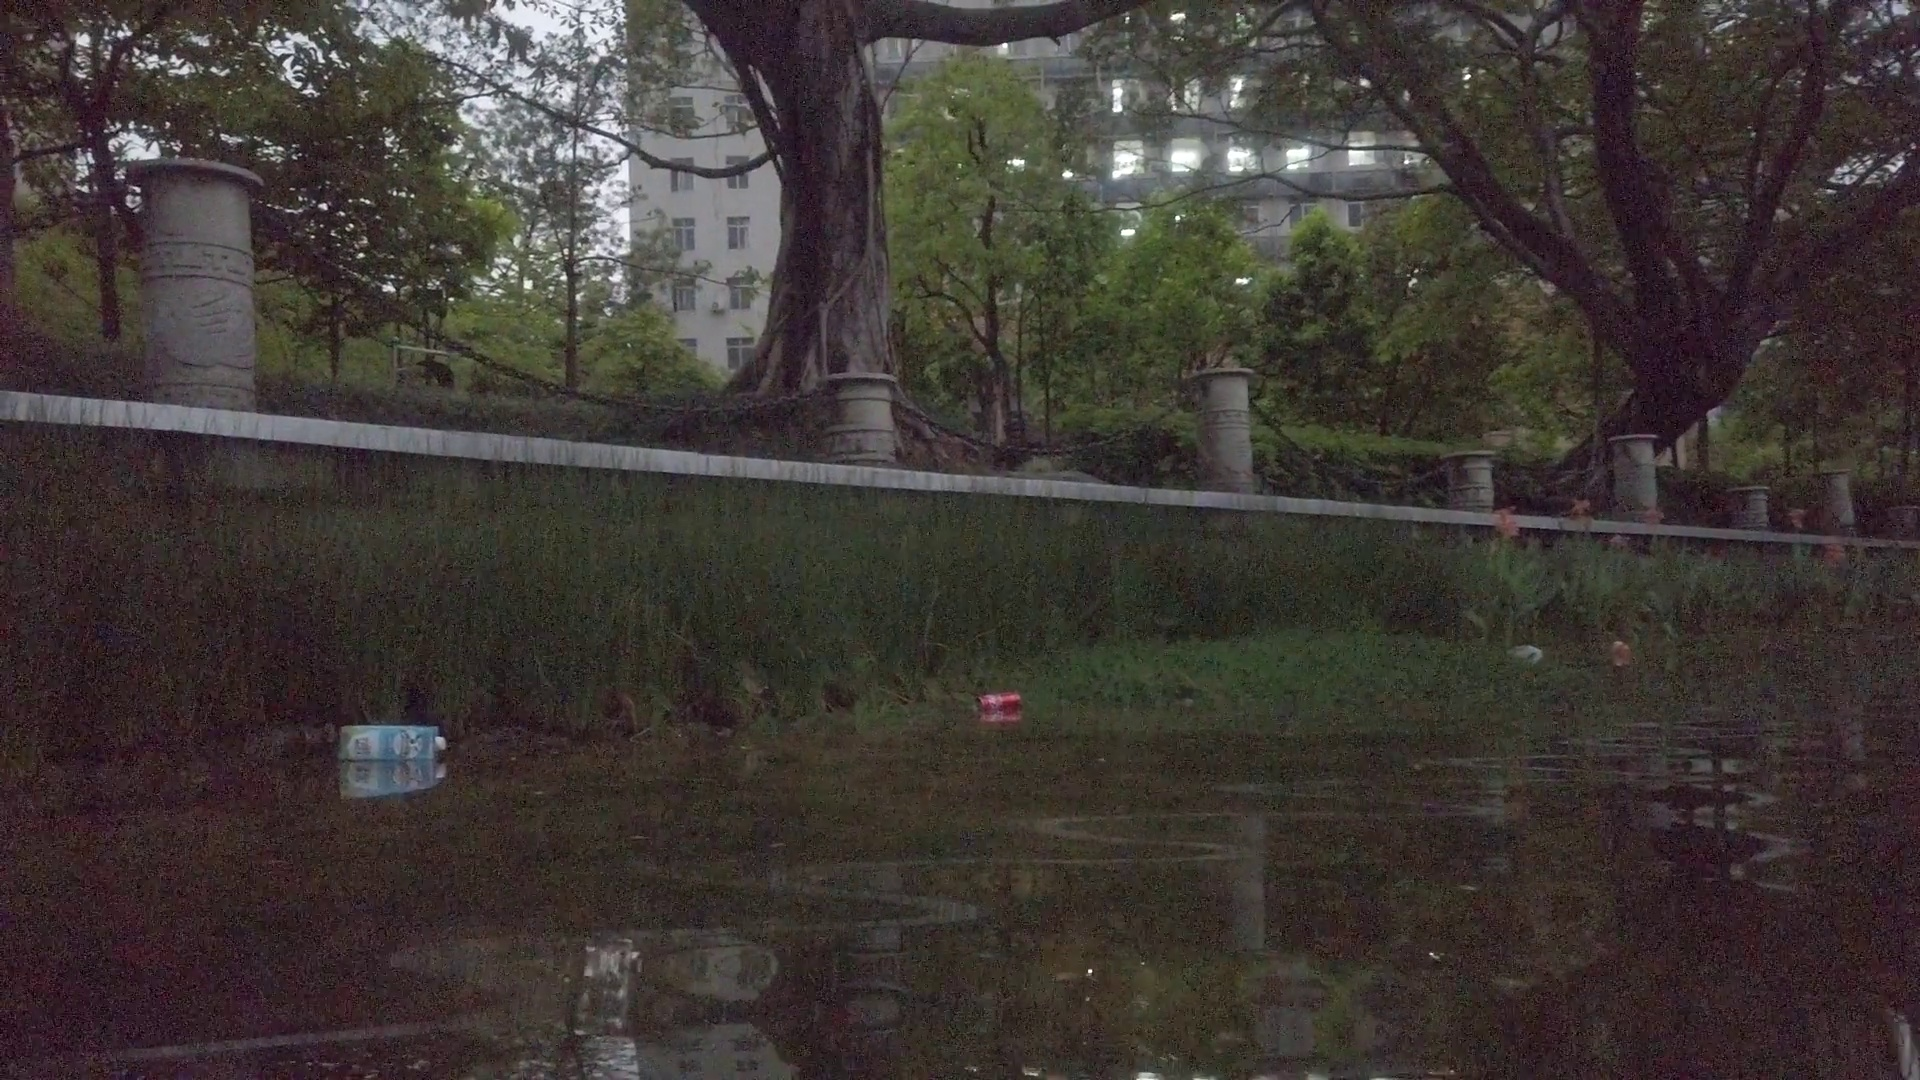bottle: (1490, 642, 1544, 688), (1607, 633, 1635, 680), (978, 688, 1026, 713)
carton: (339, 727, 447, 765)
